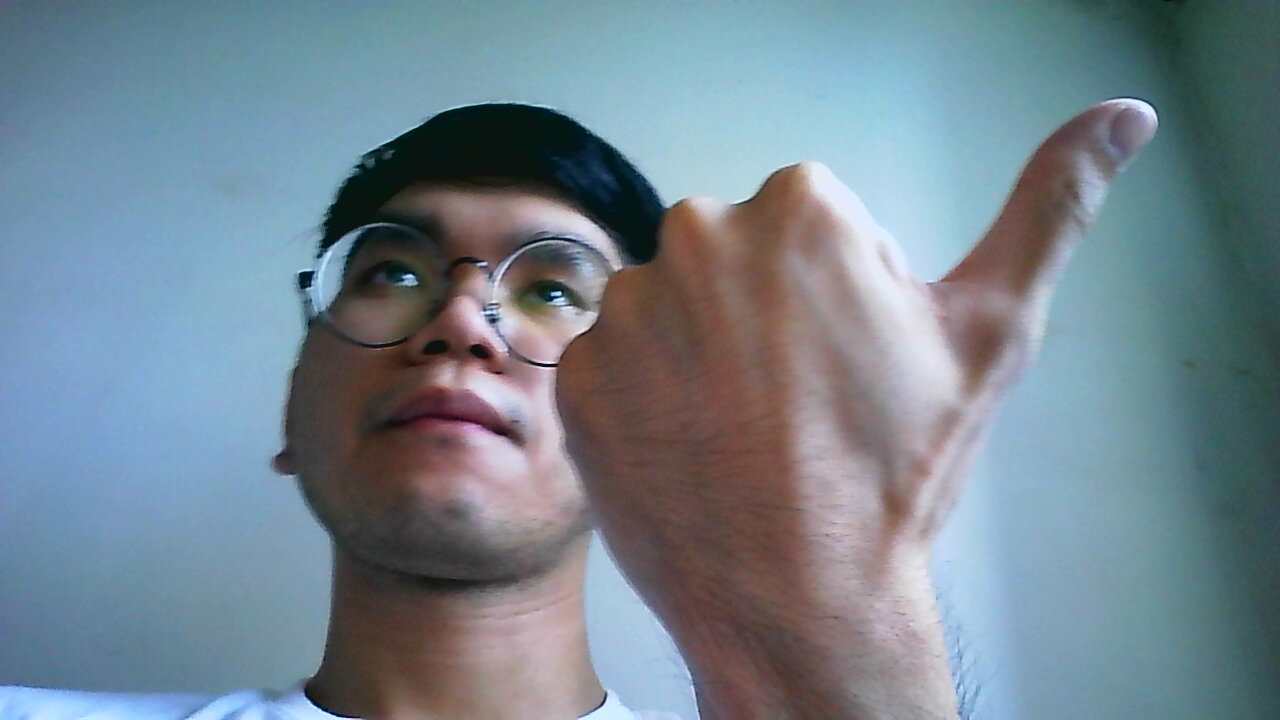thumbs: (555, 97, 1159, 584)
